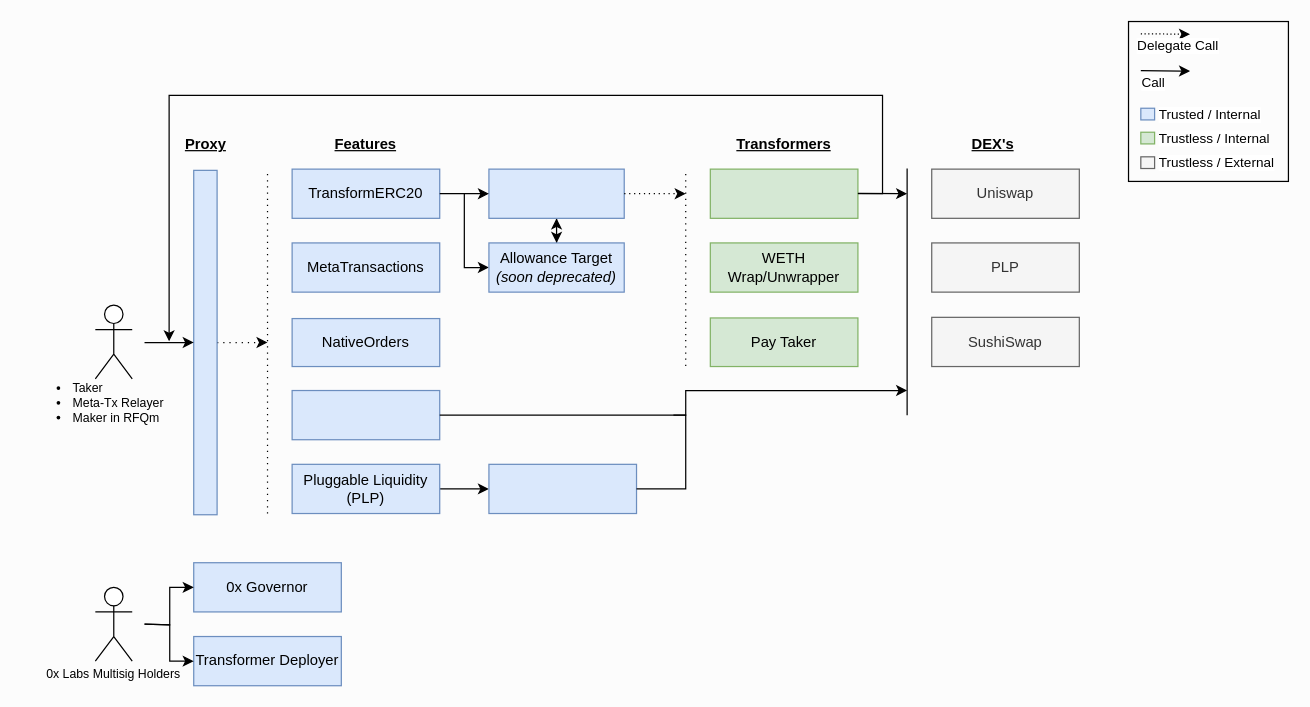
This 1310x707 diagram has some shape labels left out. The box of each missing label's shape, as (x1, y1, x2, y2) in pixels:
0x Flash Wallet: (488, 168, 624, 218)
FillQuoteTransformer: (709, 168, 858, 218)
PLP Sandbox: (488, 463, 637, 514)
UniswapRouter: (291, 389, 440, 440)
